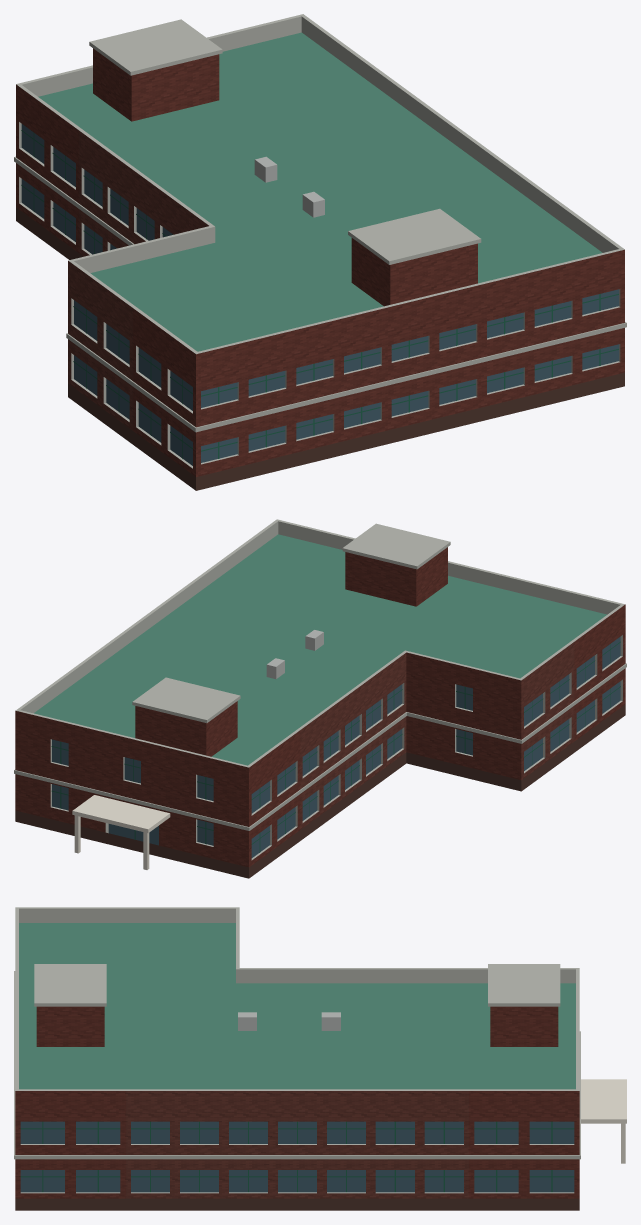
The picture shows the model from 3 angles, top to bottom: view 1: azimuth 30°, elevation 25°; view 2: azimuth 150°, elevation 25°; view 3: azimuth 270°, elevation 25°; orthographic projection. The views are drawn at different scales.
Visible parts, largest first — view 1: southcomplex__roof, southcomplex__brick, southcomplex__trim-concrete, southcomplex__glass, southcomplex__wall-plaster, southcomplex__base-stone, southcomplex__frame, southcomplex__equipment; view 2: southcomplex__roof, southcomplex__brick, southcomplex__trim-concrete, southcomplex__glass, southcomplex__wall-plaster, southcomplex__base-stone, southcomplex__canopy-concrete, southcomplex__frame, southcomplex__equipment; view 3: southcomplex__roof, southcomplex__wall-plaster, southcomplex__trim-concrete, southcomplex__brick, southcomplex__glass, southcomplex__base-stone, southcomplex__frame, southcomplex__canopy-concrete, southcomplex__equipment.
Boxes of the visible parts, x1=… form: southcomplex__roof: x1=38, y1=32, x2=602, y2=351; southcomplex__brick: x1=16, y1=48, x2=624, y2=476; southcomplex__trim-concrete: x1=14, y1=14, x2=626, y2=468; southcomplex__glass: x1=21, y1=124, x2=618, y2=465; southcomplex__wall-plaster: x1=68, y1=130, x2=208, y2=430; southcomplex__base-stone: x1=16, y1=207, x2=624, y2=490; southcomplex__frame: x1=21, y1=130, x2=618, y2=458; southcomplex__equipment: x1=254, y1=156, x2=324, y2=217; southcomplex__roof: x1=34, y1=534, x2=606, y2=765; southcomplex__brick: x1=15, y1=547, x2=625, y2=867; southcomplex__trim-concrete: x1=14, y1=519, x2=626, y2=860; southcomplex__glass: x1=52, y1=636, x2=620, y2=857; southcomplex__wall-plaster: x1=300, y1=642, x2=574, y2=829; southcomplex__base-stone: x1=15, y1=704, x2=625, y2=878; southcomplex__canopy-concrete: x1=72, y1=795, x2=170, y2=869; southcomplex__frame: x1=51, y1=641, x2=620, y2=852; southcomplex__equipment: x1=266, y1=630, x2=323, y2=679; southcomplex__roof: x1=19, y1=923, x2=575, y2=1089; southcomplex__wall-plaster: x1=126, y1=1091, x2=468, y2=1198; southcomplex__trim-concrete: x1=14, y1=907, x2=580, y2=1193; southcomplex__brick: x1=15, y1=1006, x2=579, y2=1198; southcomplex__glass: x1=20, y1=1121, x2=574, y2=1192; southcomplex__base-stone: x1=15, y1=1198, x2=579, y2=1210; southcomplex__frame: x1=20, y1=1121, x2=574, y2=1192; southcomplex__canopy-concrete: x1=581, y1=1079, x2=626, y2=1163; southcomplex__equipment: x1=238, y1=1012, x2=340, y2=1030.
Bounding box in the file's own units: 29.56 × 11.25 × 41.48.
Materials: 9 (2 with a texture image).
